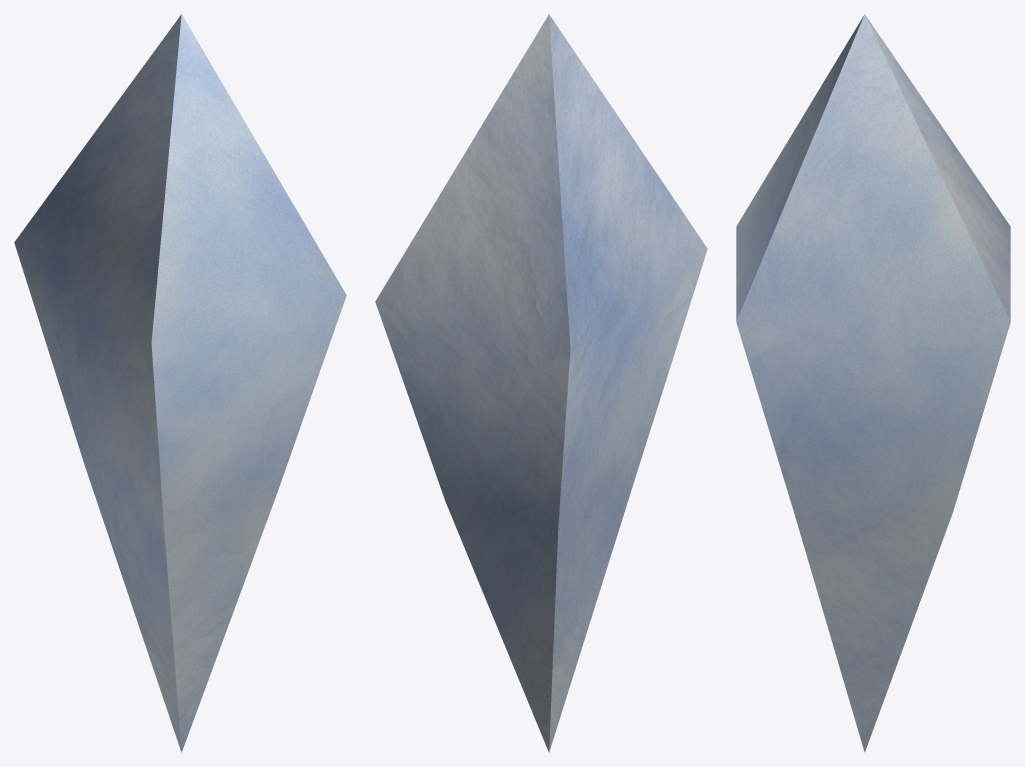
The model's file is crystal2.fbx.
3 renders of one model, left to right at view 1: azimuth 30°, elevation 25°; view 2: azimuth 150°, elevation 25°; view 3: azimuth 270°, elevation 25°, orthographic.
Parts seen in each view (by area): view 1: pCube2; view 2: pCube2; view 3: pCube2.
Part boxes in pixels (x1=…): pCube2: x1=14, y1=14, x2=346, y2=752; pCube2: x1=375, y1=14, x2=707, y2=752; pCube2: x1=736, y1=14, x2=1010, y2=752.
Bounding box in the file's own units: 1.8 × 6.49 × 2.19.
